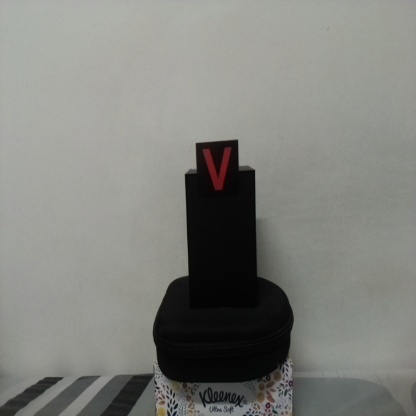id_11: (195, 142, 240, 202)
